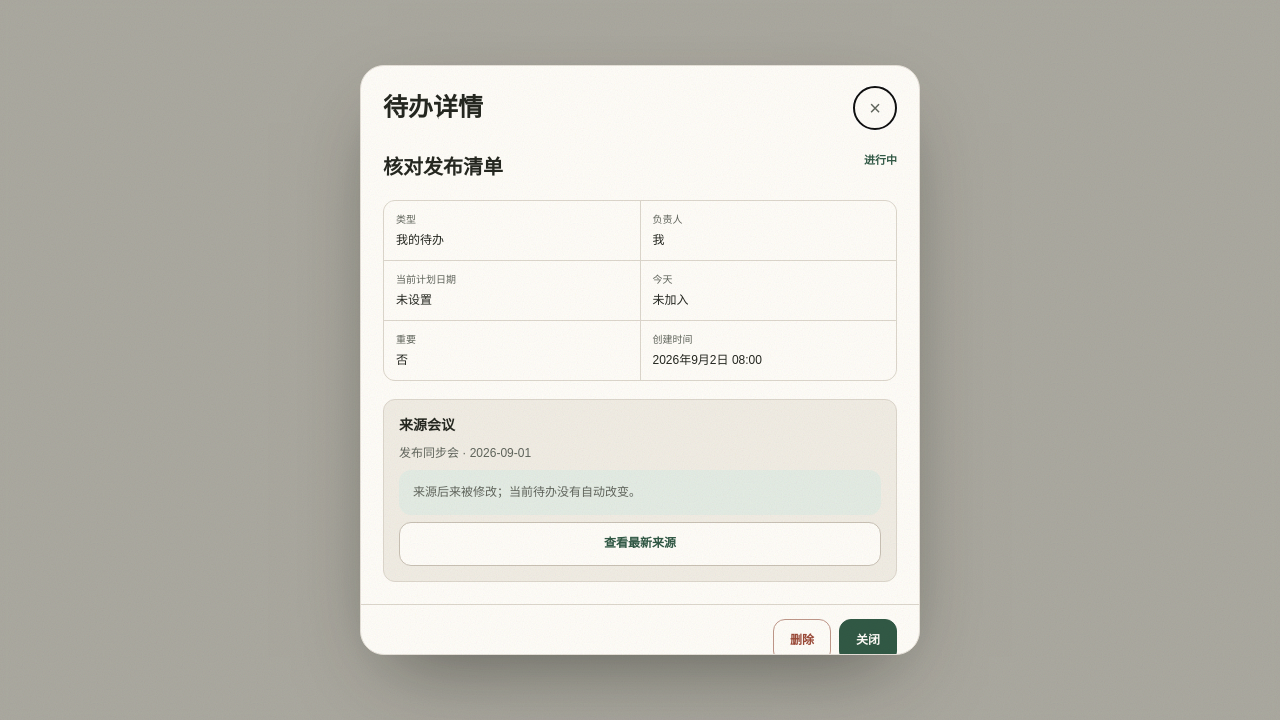
Test: Work Review Todo UI › uses one dialog state machine for changed source and labels direct Evidence separately
Click the button "查看最新来源" at coordinates (640, 544), box [399,522,881,566]
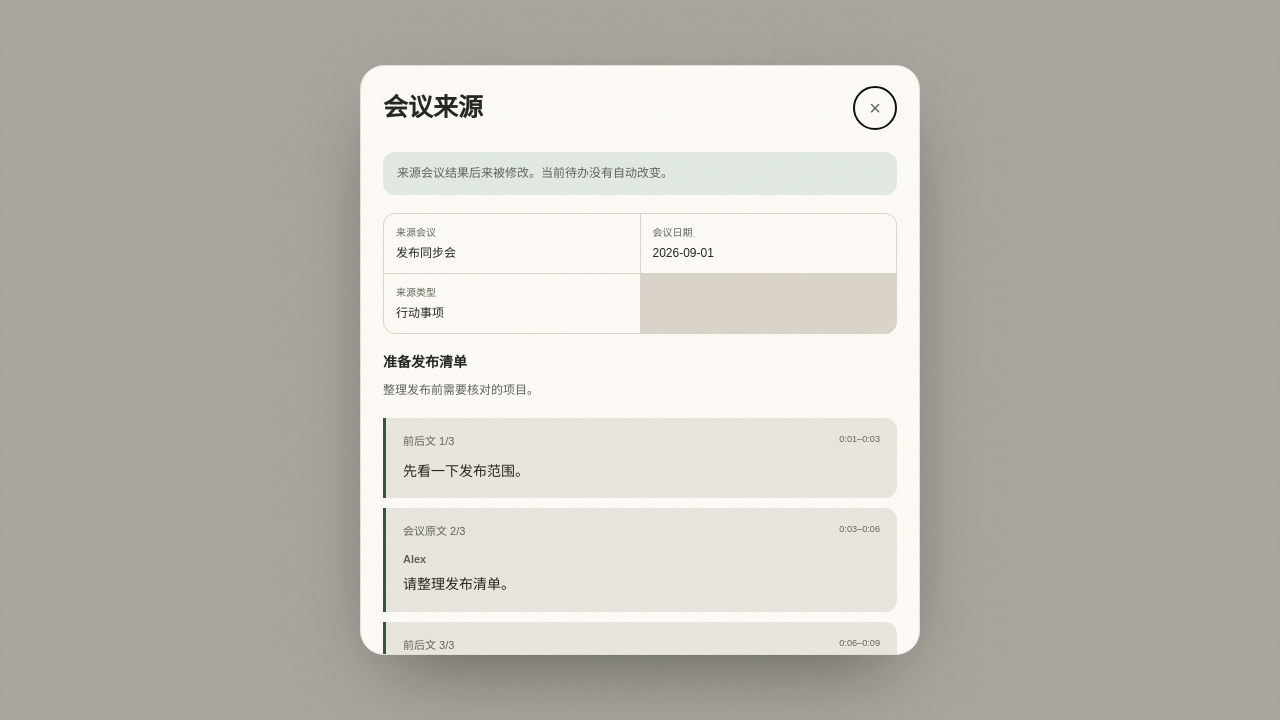
Check: the heading "会议来源" is shown, box [383,89,483,126]
Check: the text "会议原文 2/3" is shown, box [403,523,465,540]
Check: the text "前后文 1/3" is shown, box [403,433,454,450]
